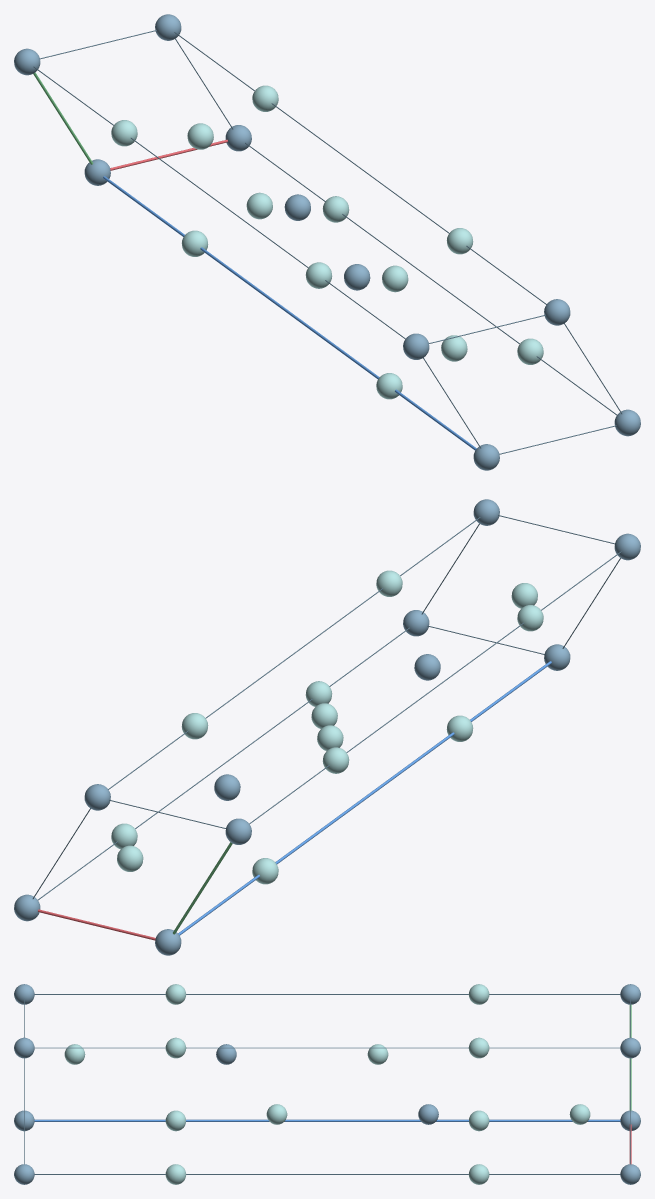
File: chat-zinc-bromide.glb
3 views of the same model, one above another, from view 1: azimuth 30°, elevation 25°; view 2: azimuth 150°, elevation 25°; view 3: azimuth 270°, elevation 25° (orthographic). The views are drawn at different scales.
Parts seen in each view (by area): view 1: Ô mạng và các trục a, b, c; view 2: Ô mạng và các trục a, b, c; view 3: Br · Br · 1 (×12), Ô mạng và các trục a, b, c, Zn · Zn · 1 (×10).
Part boxes in pixels (box(x1,y1,x2,y2)): Ô mạng và các trục a, b, c: box(33, 30, 622, 454); Ô mạng và các trục a, b, c: box(32, 515, 621, 940); Br · Br · 1 (×12): box(64, 984, 590, 1184); Ô mạng và các trục a, b, c: box(24, 994, 631, 1174); Zn · Zn · 1 (×10): box(14, 984, 640, 1184).
Size of the model in its own units: 6.52 by 4.03 by 19.37.
